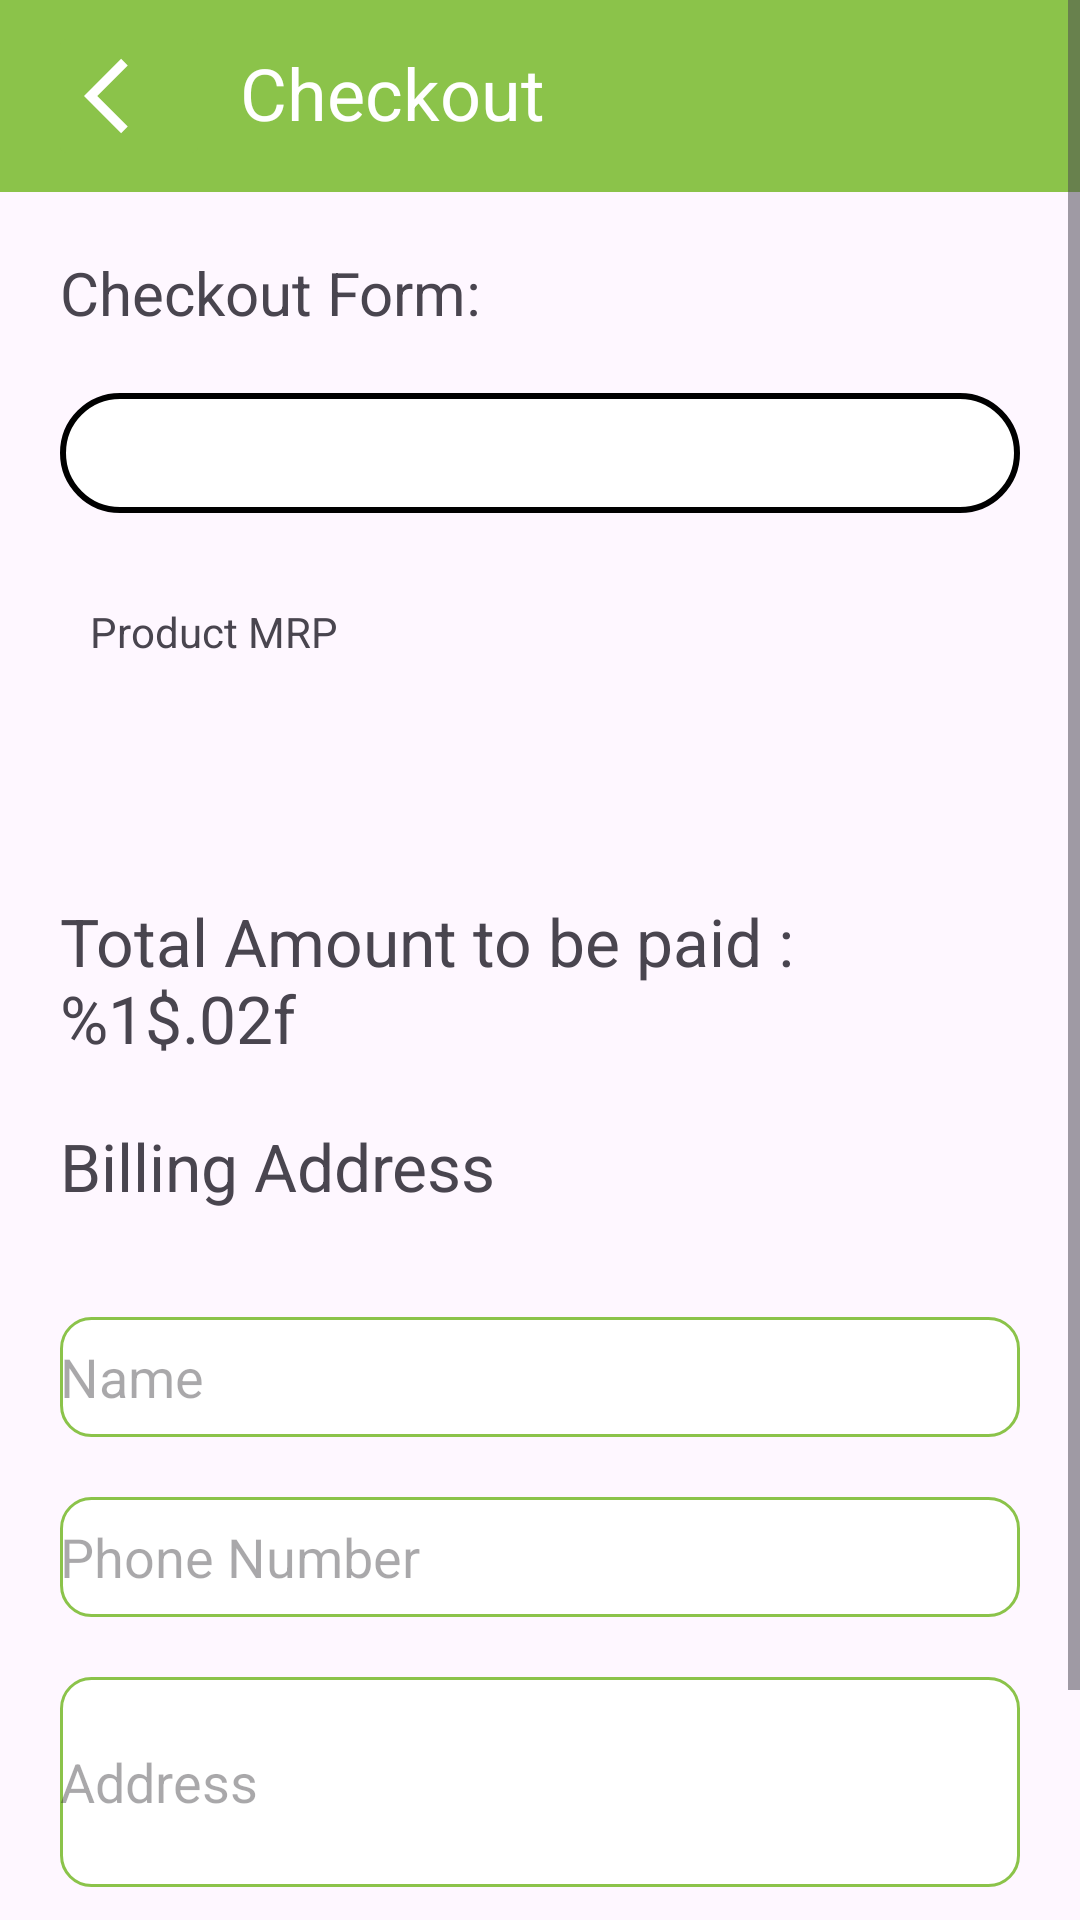

Screen size 1080px x 1920px. Icon name, then its box in pixels as (x1,y1,x2,y2):
arrow back: (84,59,128,133)
